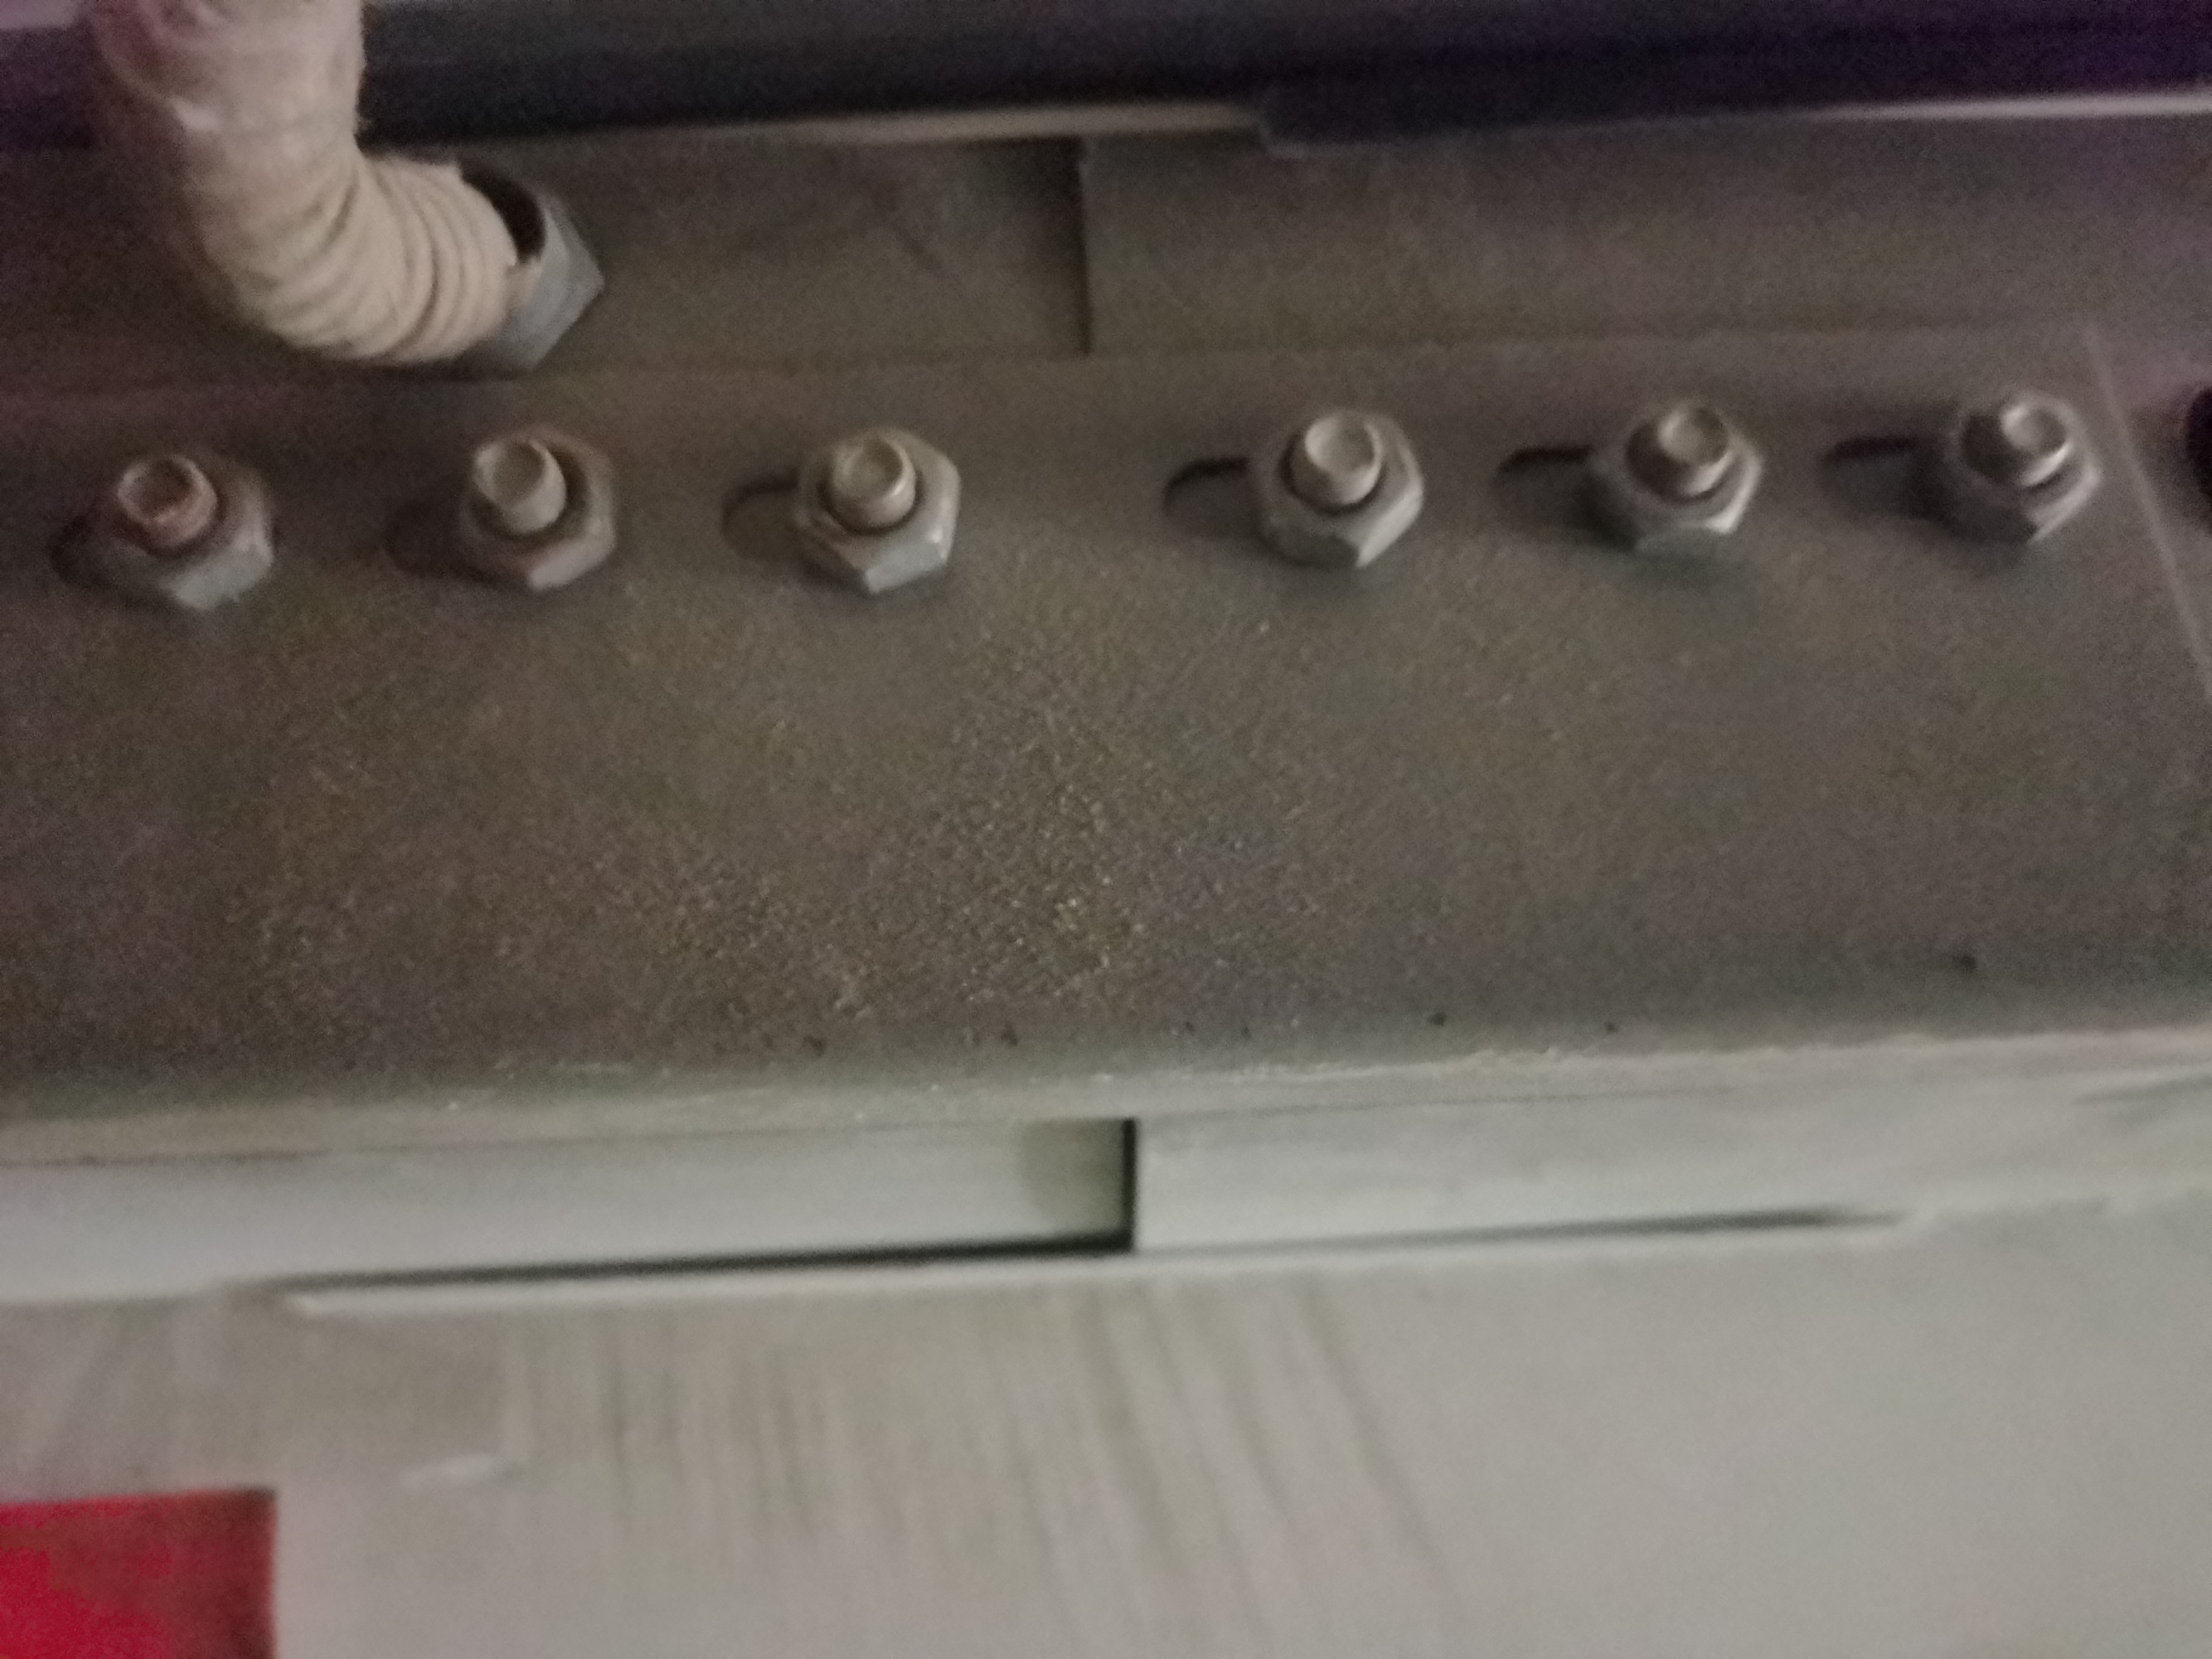bolt_b: (70, 423, 287, 627), (1898, 369, 2113, 558), (1569, 387, 1775, 565), (441, 418, 634, 606), (1238, 390, 1432, 577), (780, 420, 970, 605)
